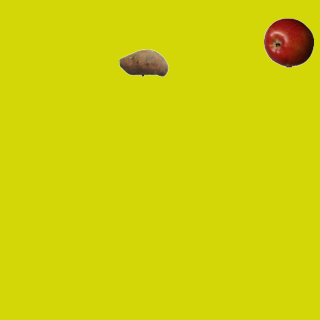Apple Braeburn: (263, 17, 313, 67)
Potato Sweet: (118, 37, 168, 87)
